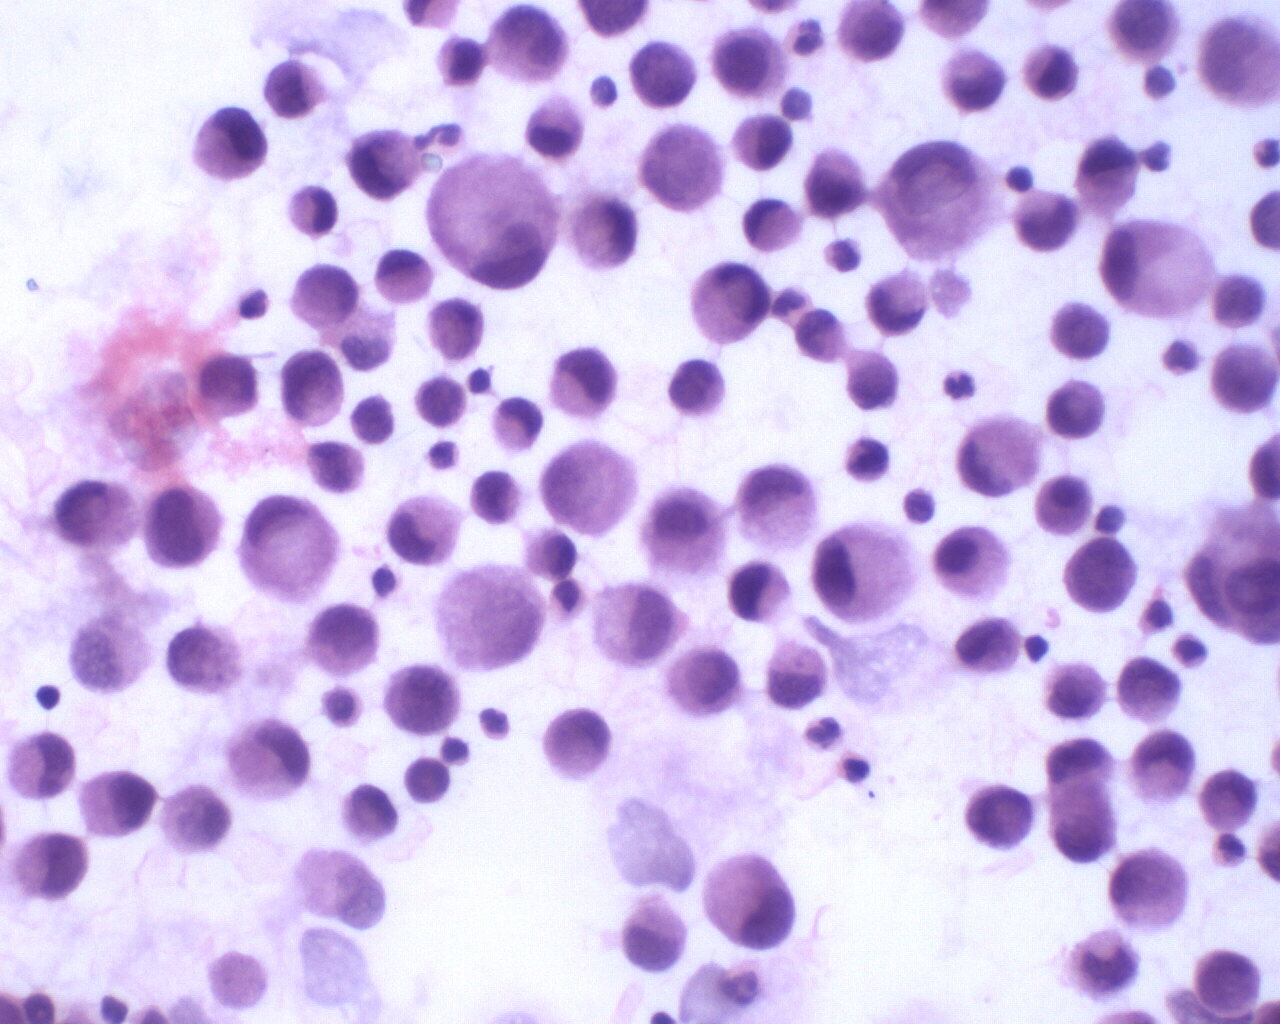ab: (872, 127, 1015, 270), (641, 118, 731, 215), (1106, 843, 1196, 937), (139, 485, 228, 572), (374, 658, 466, 740), (536, 700, 620, 786), (706, 22, 792, 104), (276, 347, 355, 436), (665, 641, 747, 723), (13, 819, 90, 907), (548, 333, 621, 425), (1060, 535, 1140, 616), (305, 600, 385, 679), (1005, 185, 1087, 261), (1187, 942, 1265, 1021), (1205, 335, 1280, 417), (187, 349, 265, 422), (629, 34, 699, 115), (960, 781, 1034, 856), (835, 1, 913, 70), (1116, 652, 1186, 726), (1194, 761, 1265, 833), (1040, 659, 1113, 729), (1107, 2, 1188, 63), (1046, 298, 1116, 367), (289, 260, 359, 329), (428, 293, 493, 365), (1045, 376, 1110, 443), (669, 357, 730, 421), (1210, 267, 1269, 333), (1024, 42, 1084, 104), (412, 374, 470, 435), (464, 468, 522, 529)
histo: (421, 155, 565, 297), (1096, 213, 1214, 321), (240, 496, 348, 607), (813, 523, 920, 626), (223, 708, 313, 813), (365, 245, 442, 309), (741, 192, 806, 259)
lymph: (999, 156, 1040, 197), (30, 678, 66, 713)
meso: (926, 523, 1014, 607), (1028, 471, 1098, 540)
neutro: (800, 712, 853, 755), (785, 11, 830, 59), (937, 362, 978, 406)
